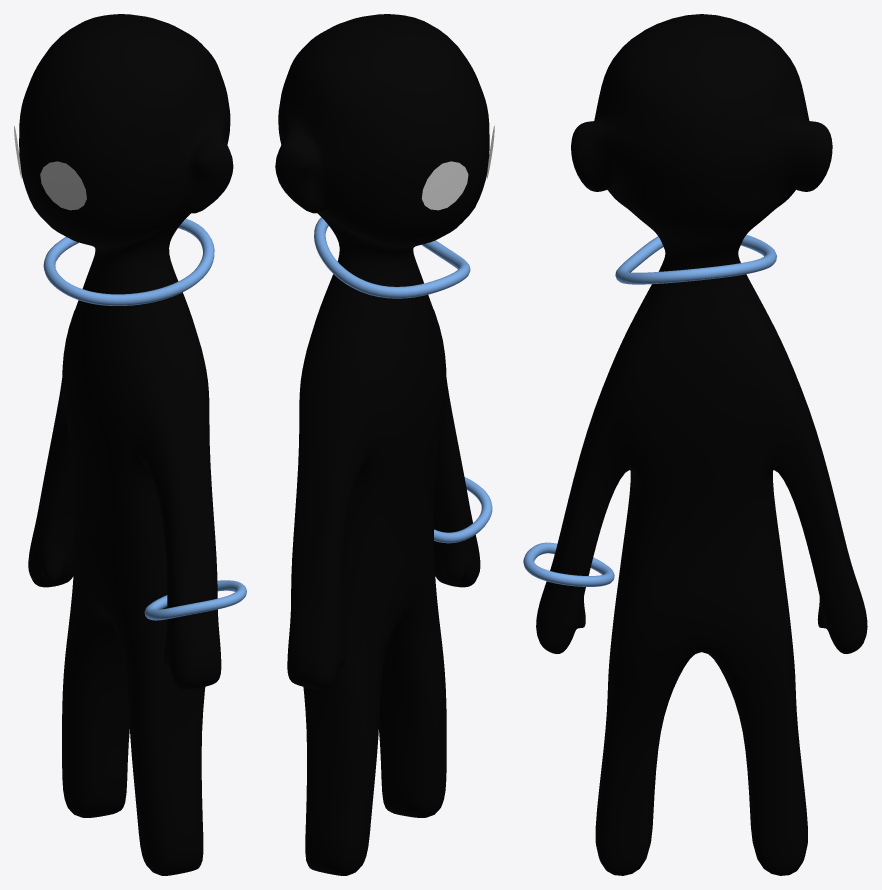
3 views of the same model, side by side, from view 1: azimuth 30°, elevation 25°; view 2: azimuth 150°, elevation 25°; view 3: azimuth 270°, elevation 25° (orthographic). The views are drawn at different scales.
Parts seen in each view (by area): view 1: 立方体.036, NURBS 路径, 立方体.037, NURBS 路径.001; view 2: 立方体.036, NURBS 路径, 立方体.037, NURBS 路径.001; view 3: 立方体.036, NURBS 路径, NURBS 路径.001.
Part boxes in pixels (<box>): 立方体.036: <box>19,14,233,875</box>; NURBS 路径: <box>43,218,214,305</box>; 立方体.037: <box>14,126,86,210</box>; NURBS 路径.001: <box>144,580,246,620</box>; 立方体.036: <box>275,14,489,875</box>; NURBS 路径: <box>314,217,470,298</box>; 立方体.037: <box>421,125,494,210</box>; NURBS 路径.001: <box>434,477,492,543</box>; 立方体.036: <box>536,14,867,875</box>; NURBS 路径: <box>615,234,776,284</box>; NURBS 路径.001: <box>523,542,614,586</box>.
Size of the model in its own units: 44.1 by 184 by 68.45.
